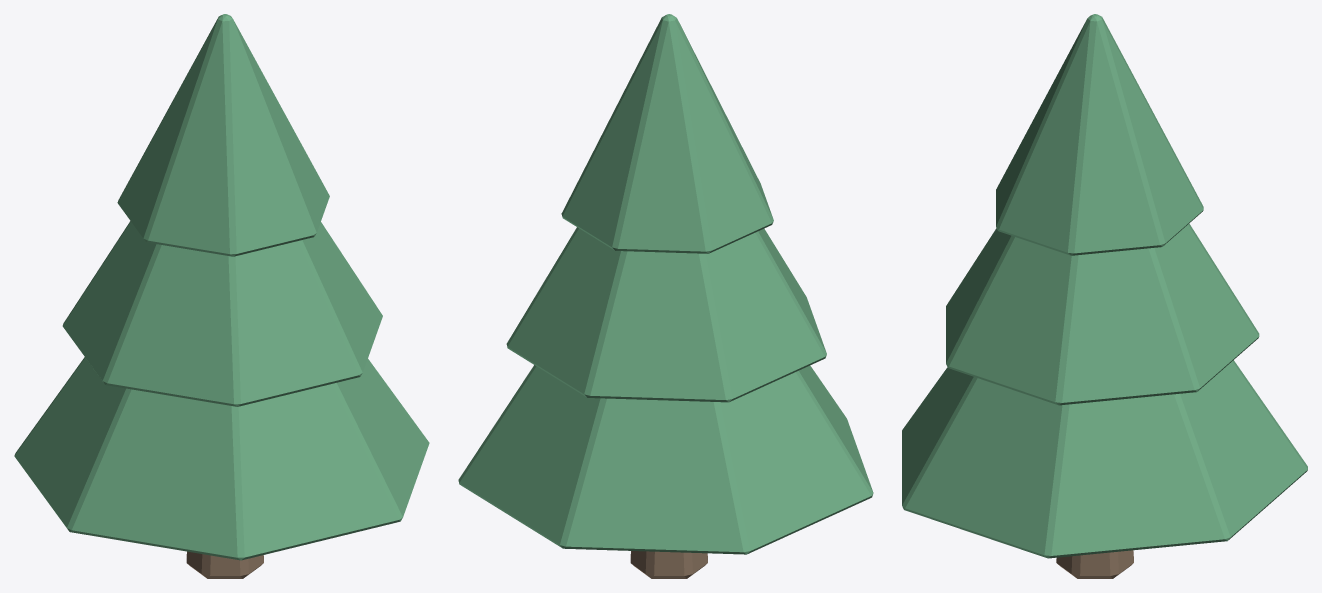
The model's file is pine_small.glb.
The picture shows the model from 3 angles, left to right: view 1: azimuth 30°, elevation 25°; view 2: azimuth 150°, elevation 25°; view 3: azimuth 270°, elevation 25°; orthographic projection.
Visible parts, largest first — view 1: Foliage1, Foliage2, Foliage3, Trunk; view 2: Foliage1, Foliage2, Foliage3, Trunk; view 3: Foliage1, Foliage2, Foliage3, Trunk.
Boxes of the visible parts, box(x1,y1,x2,y2) form: Foliage1: box(14, 357, 429, 560); Foliage2: box(62, 221, 382, 406); Foliage3: box(117, 14, 329, 256); Trunk: box(186, 551, 263, 578); Foliage1: box(458, 365, 873, 554); Foliage2: box(506, 227, 826, 402); Foliage3: box(561, 14, 773, 253); Trunk: box(630, 551, 707, 578); Foliage1: box(902, 360, 1307, 558); Foliage2: box(946, 223, 1259, 405); Foliage3: box(996, 14, 1203, 255); Trunk: box(1056, 550, 1133, 578).
Size of the model in its own units: 0.7391 by 1.08 by 0.7206.
